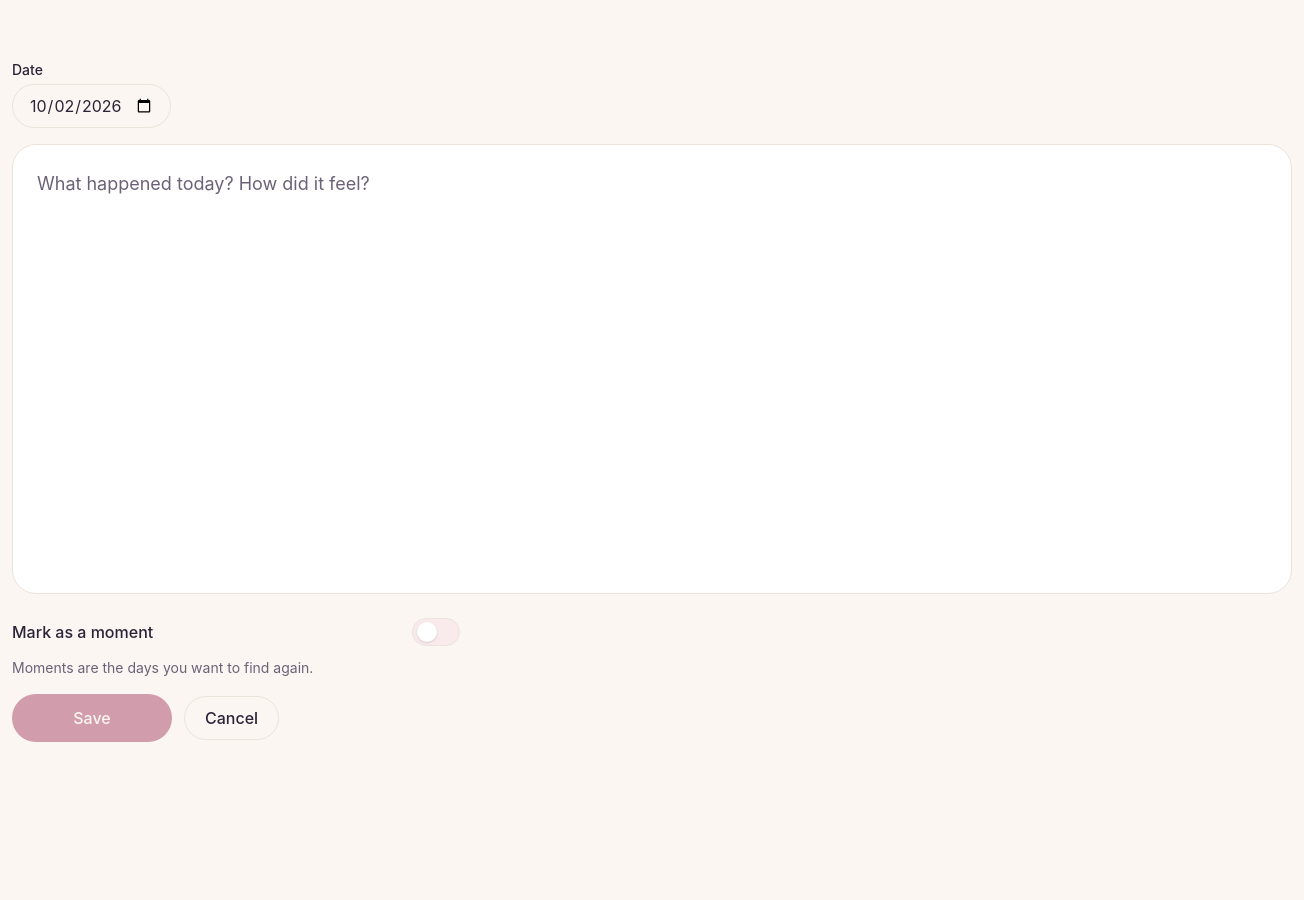
Test: EntryEditor: a new entry › a failed request (offline): the generic error, and the draft stays
Type "Not lost" into the text box with test id "entry-text" at (652, 369), box [12, 144, 1292, 594]
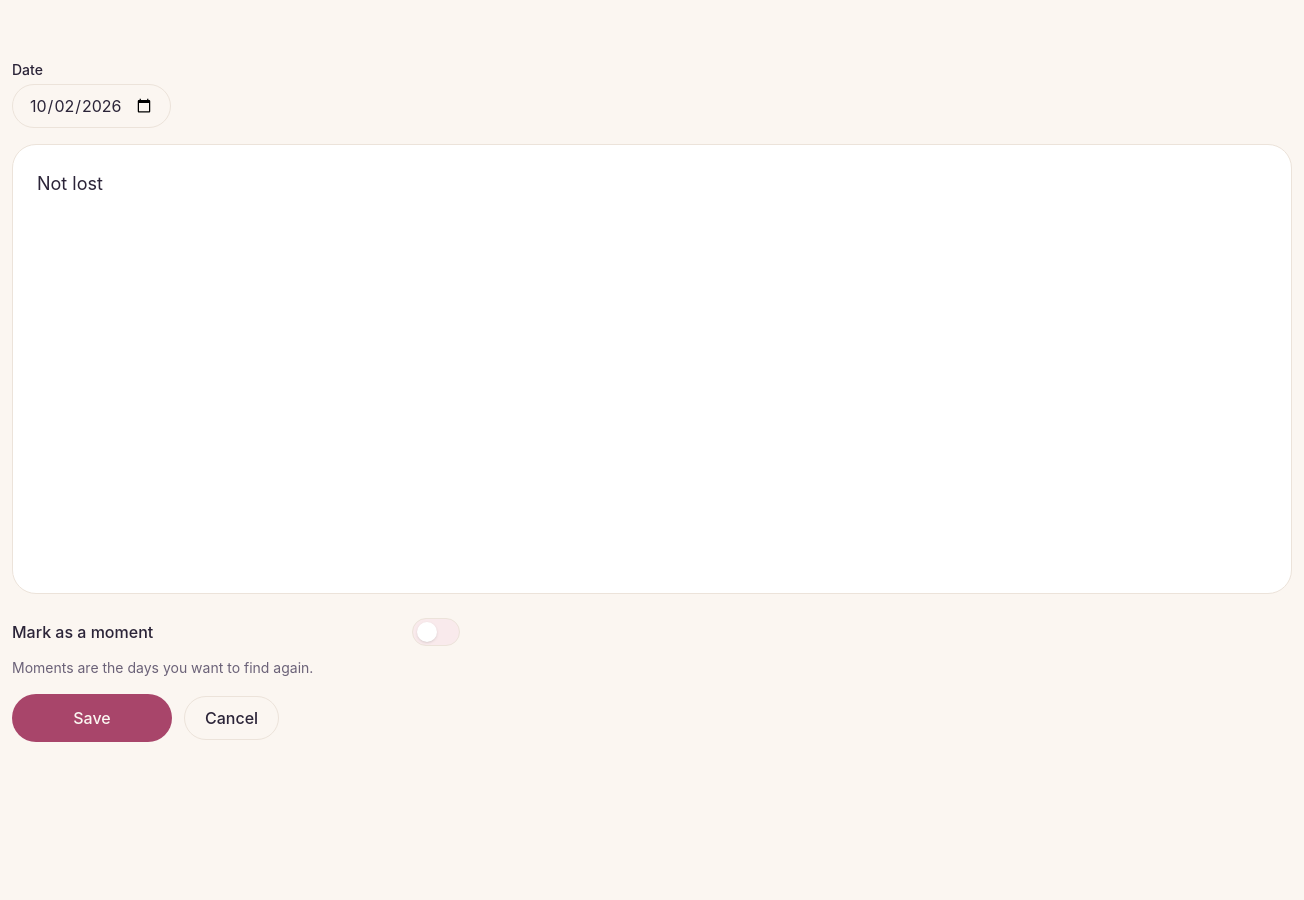
Click the button with test id "entry-save" at (92, 718), box [12, 694, 172, 742]
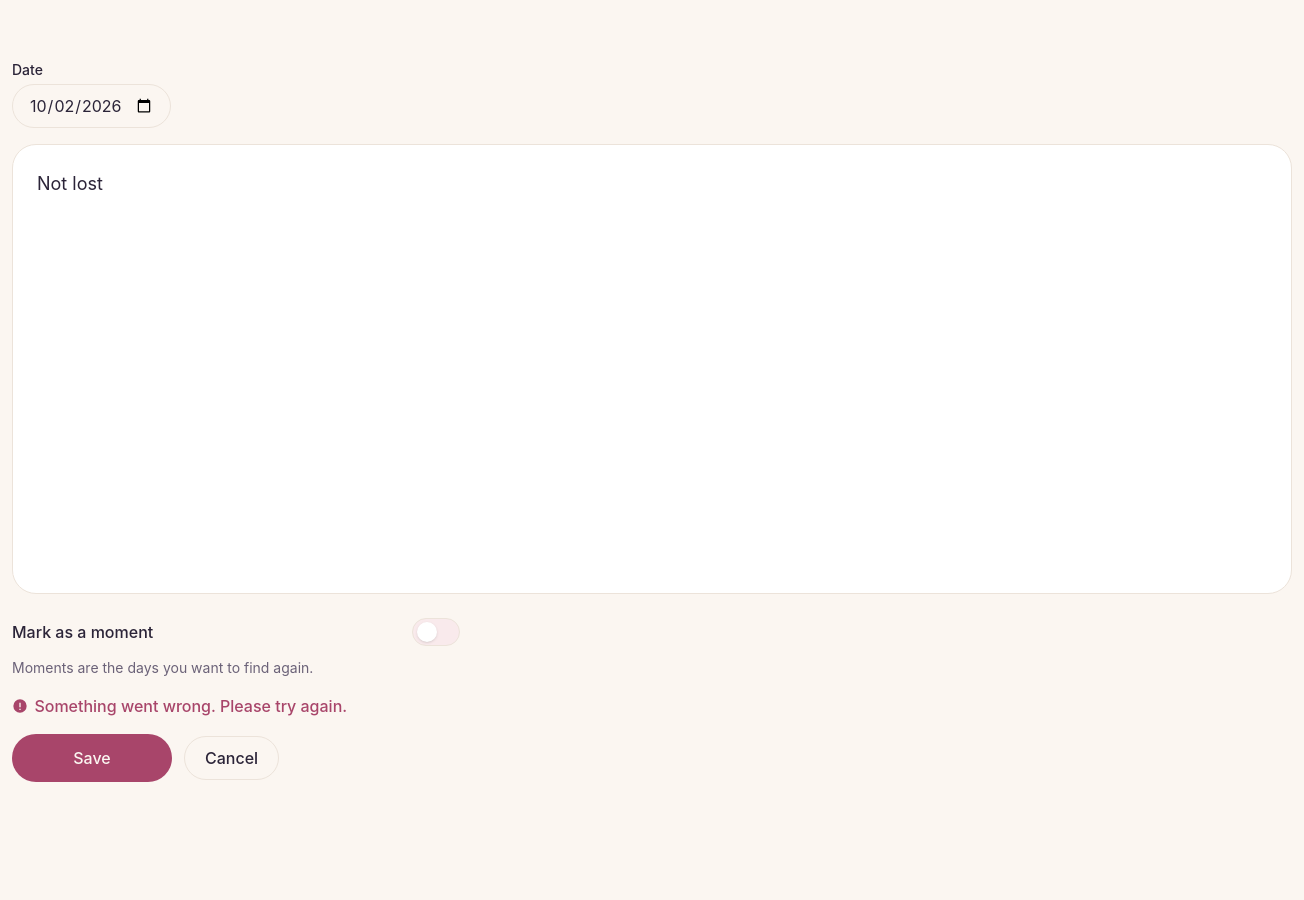
Expected: the message with test id "entry-error" reads "Something went wrong. Please try again.", [34, 696, 347, 716]
